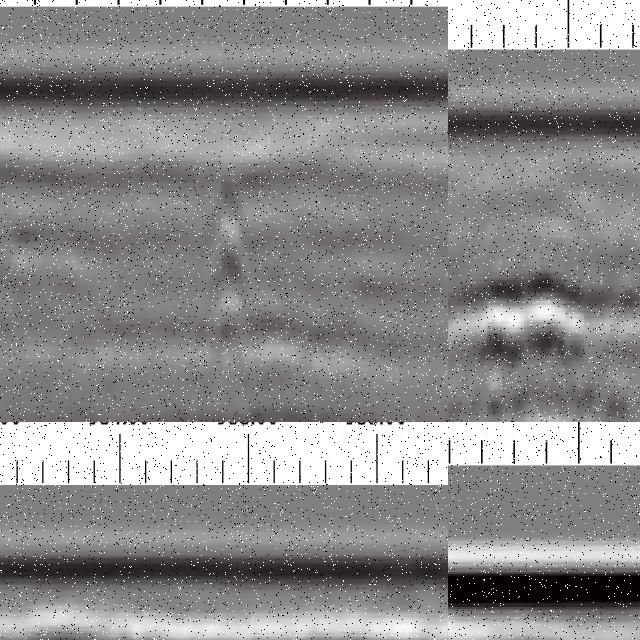crack: (207, 172, 253, 398)
loose: (465, 241, 597, 423)
